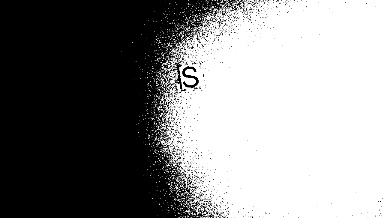S: (176, 63, 202, 88)
